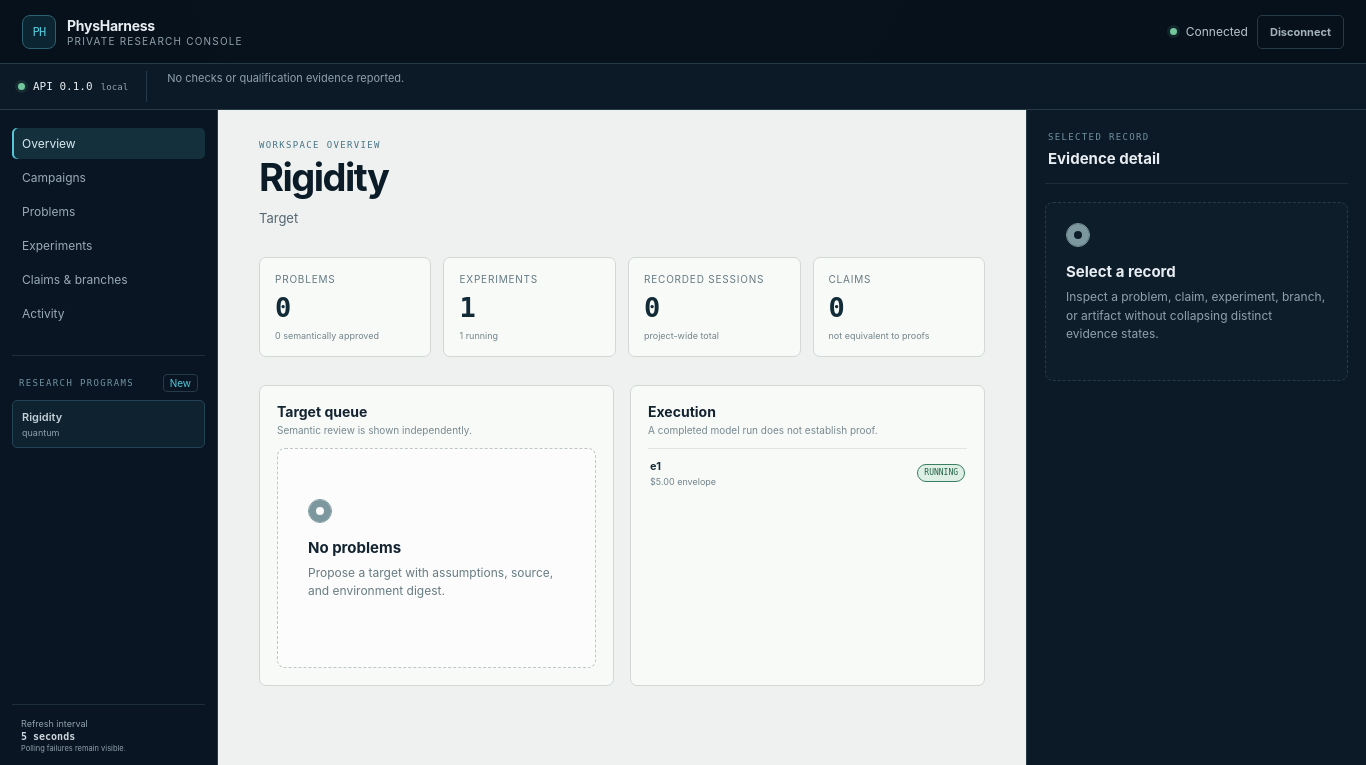
it: preserves mutation failure when background refresh succeeds
The width and height of the screenshot is (1366, 765).
Click the button with aria-label "open experiment rigidity" at point(695, 481), box [648,448,967,497]
(page scrolled)
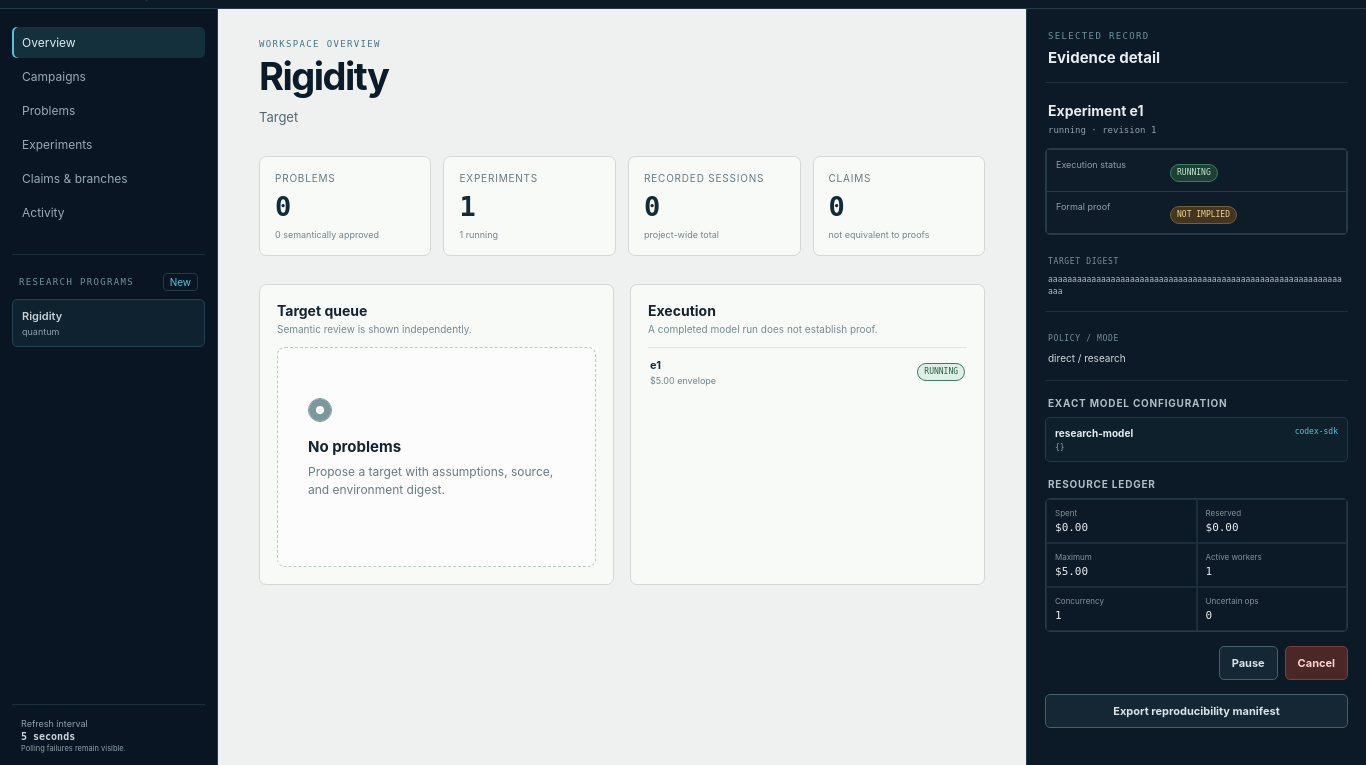
Click the button with aria-label "cancel experiment" at point(1316, 663), box [1285,646,1348,680]
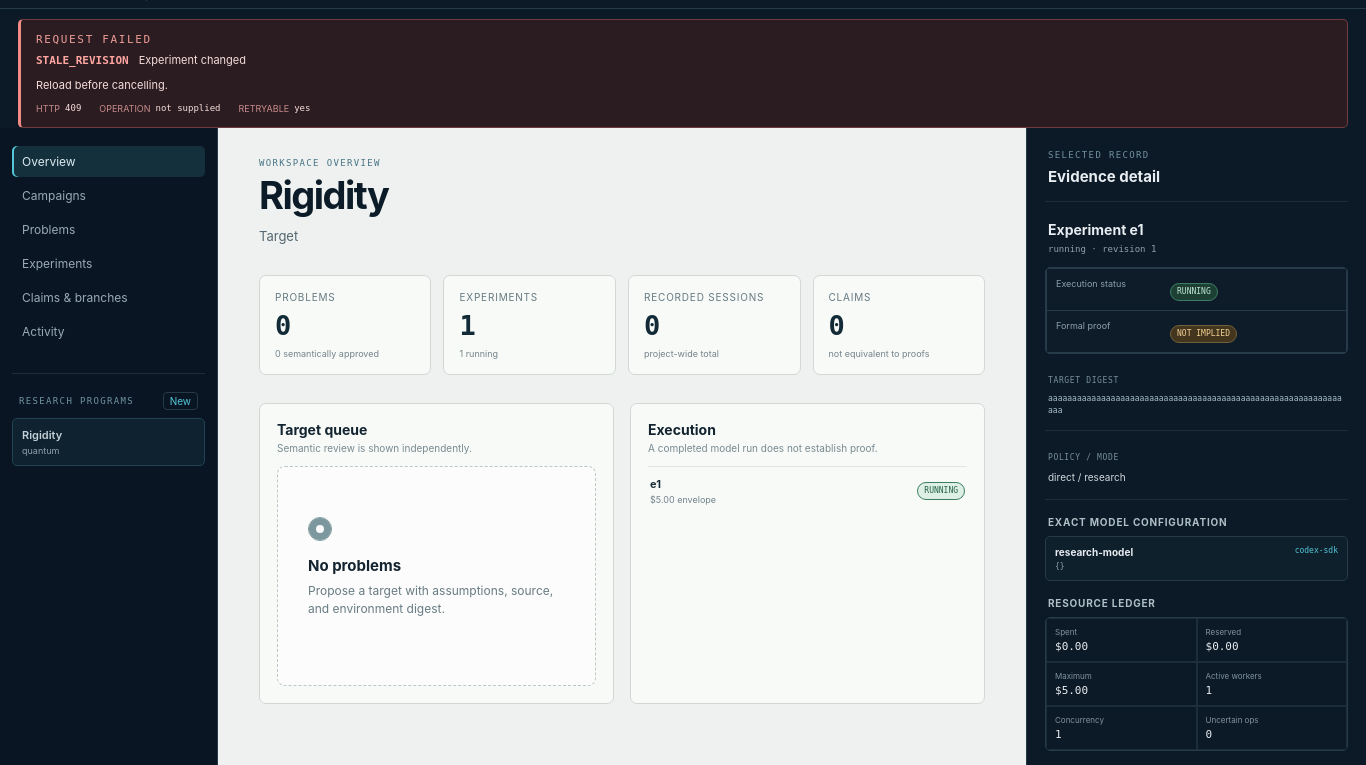
Now the text "STALE_REVISION" is shown, box [36,54,129,67]
